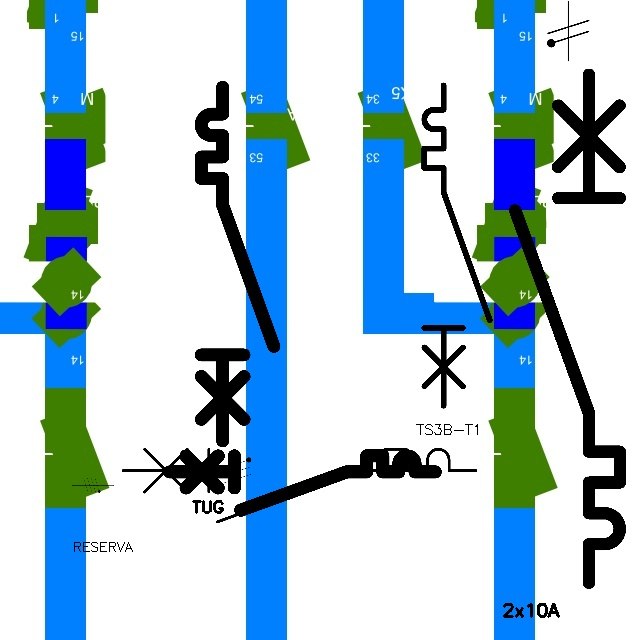interruptor_termomagnetico: (502, 61, 633, 596), (192, 78, 283, 450), (114, 440, 485, 531), (416, 77, 498, 414), (163, 449, 442, 517)
